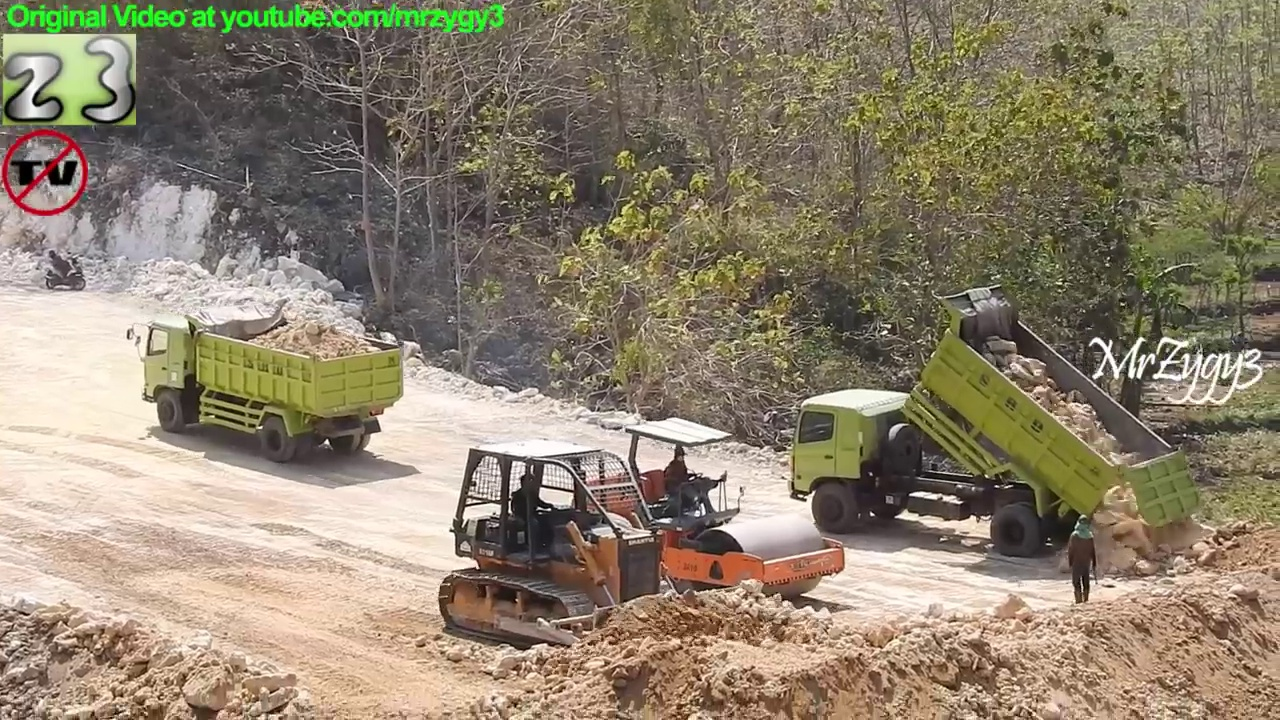bulldozer: (438, 434, 788, 662)
compactor: (555, 413, 851, 612)
truck: (778, 282, 1206, 565), (123, 299, 409, 465)
